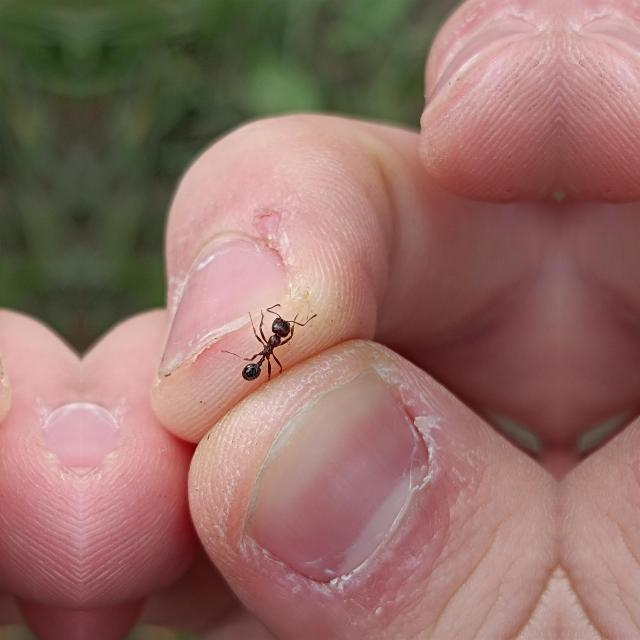Messor: (233, 306, 295, 386)
